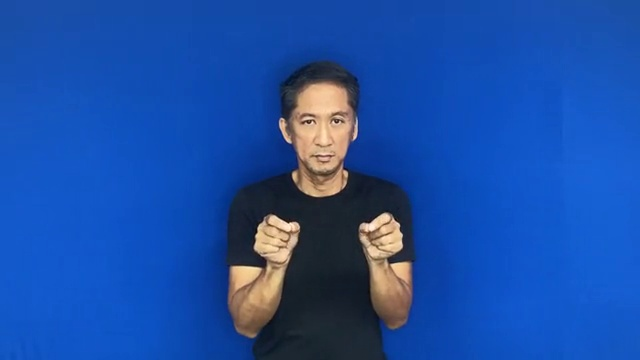crab: (247, 206, 409, 274)
